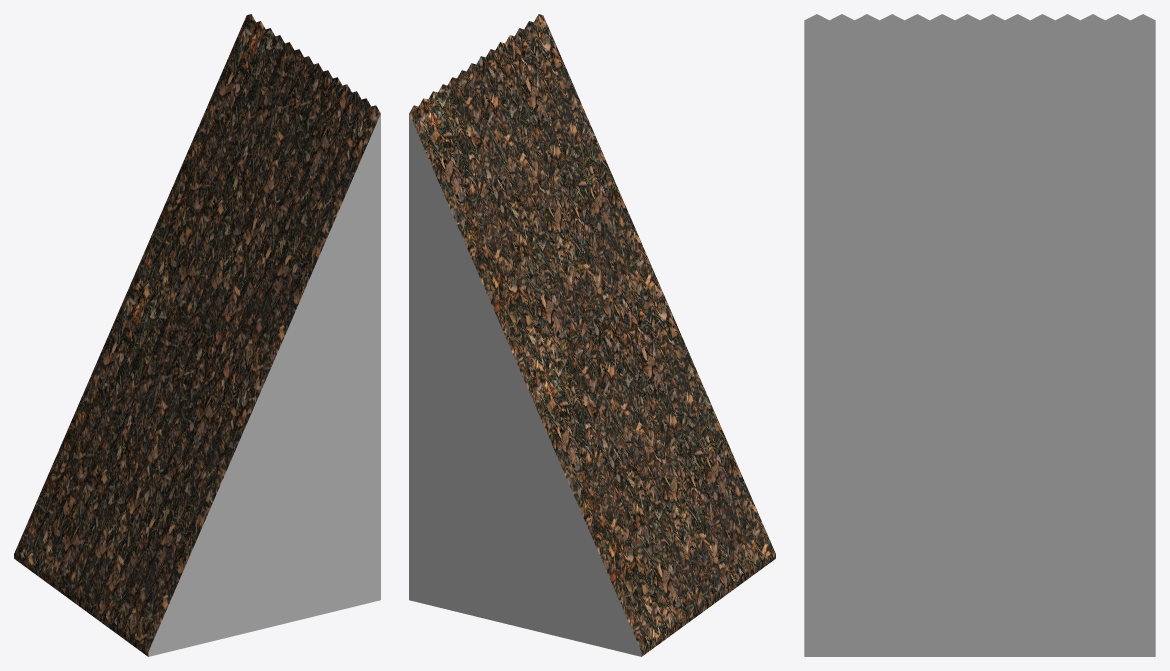
The picture shows the model from 3 angles, left to right: view 1: azimuth 30°, elevation 25°; view 2: azimuth 150°, elevation 25°; view 3: azimuth 270°, elevation 25°; orthographic projection. The views are drawn at different scales.
Parts seen in each view (by area): view 1: SM_SlantedRoof-2_LOD0; view 2: SM_SlantedRoof-2_LOD0; view 3: SM_SlantedRoof-2_LOD0.
Part boxes in pixels (x1,y1,x2,y2): SM_SlantedRoof-2_LOD0: (14, 14, 380, 656); SM_SlantedRoof-2_LOD0: (409, 14, 775, 656); SM_SlantedRoof-2_LOD0: (804, 14, 1155, 656).
Size of the model in its own units: 500 by 500 by 1010.
